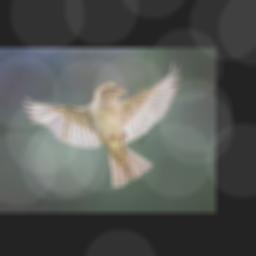Sparrow: (21, 63, 182, 187)
